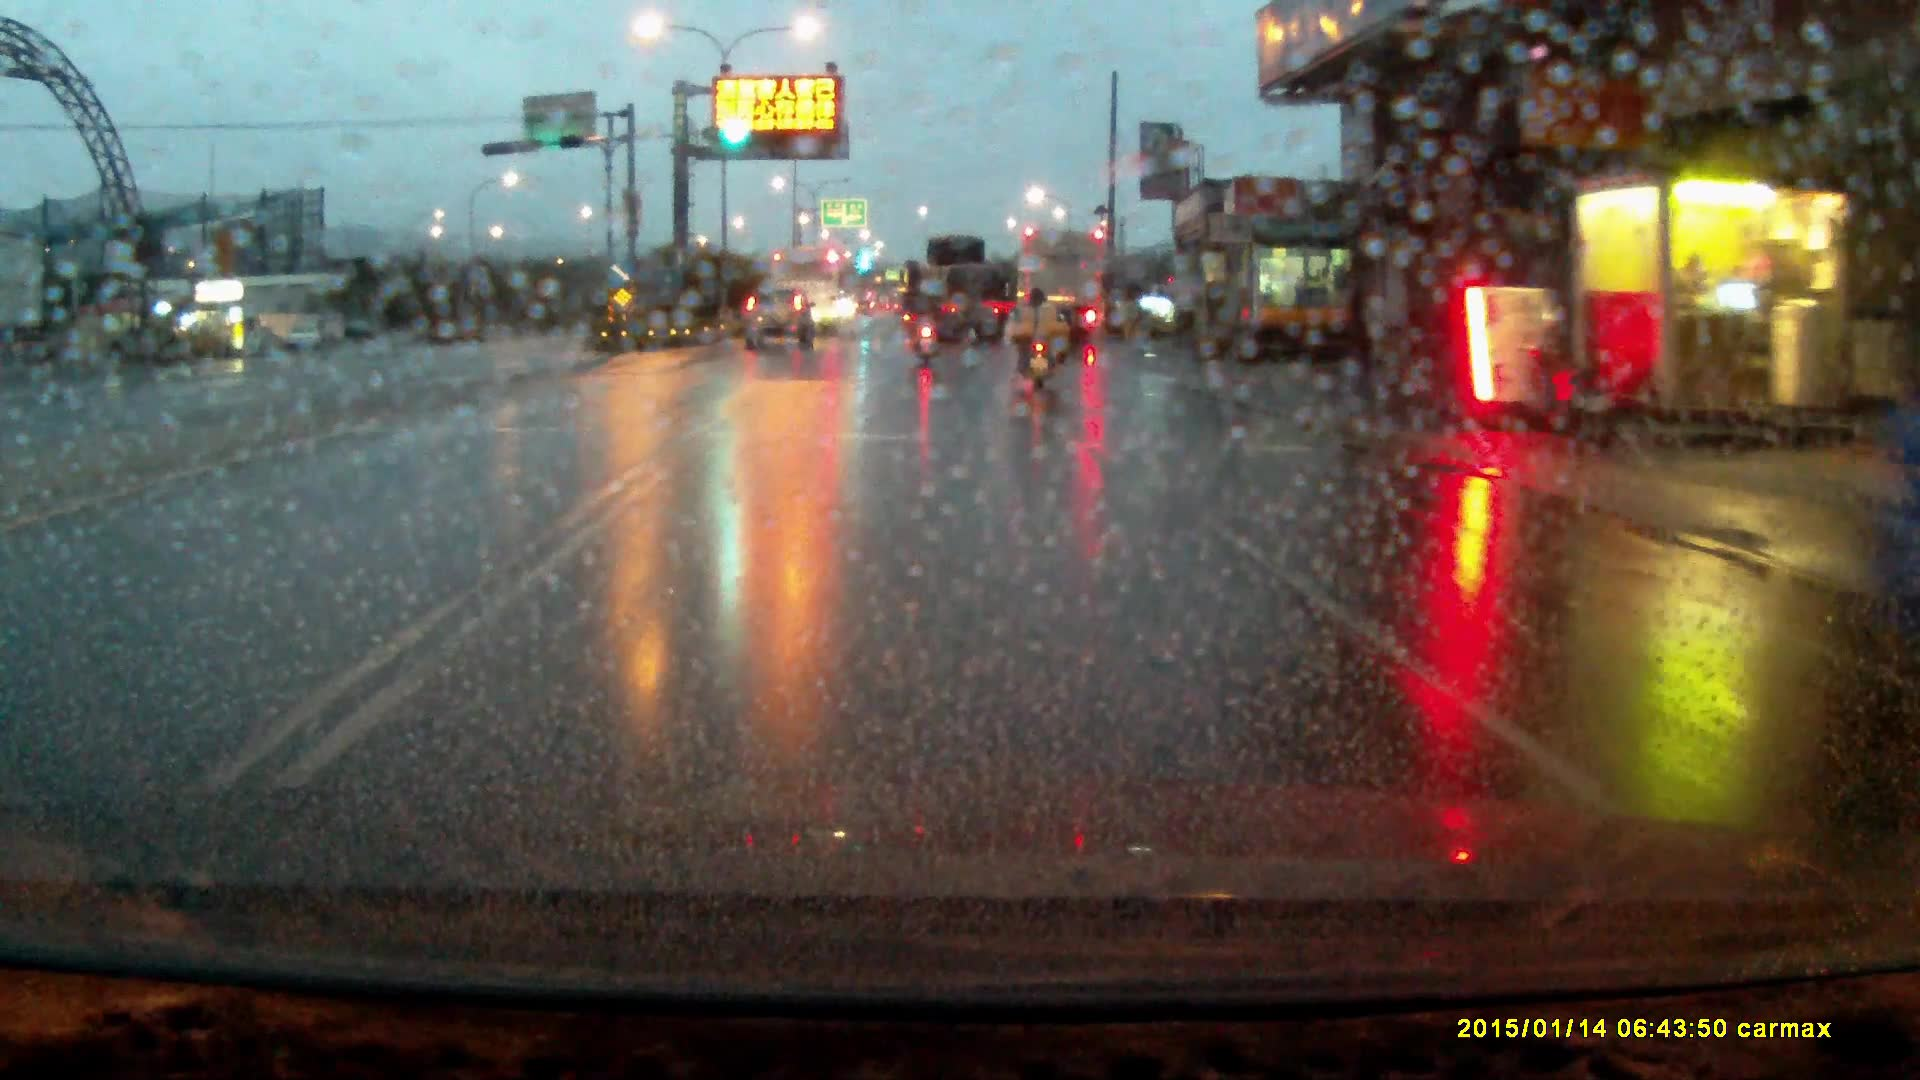rider: (1018, 287, 1060, 397), (908, 282, 941, 365)
vehicle: (914, 237, 1013, 347), (1020, 231, 1107, 346), (769, 247, 842, 335), (744, 283, 814, 348)
